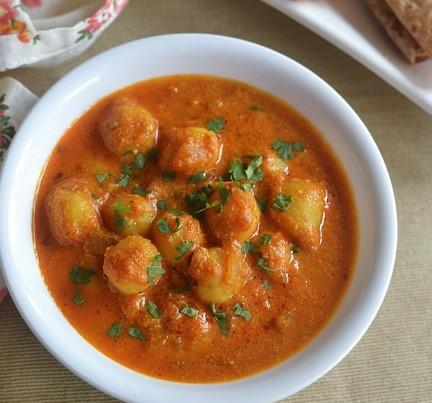DumAloo: (29, 73, 363, 383)
